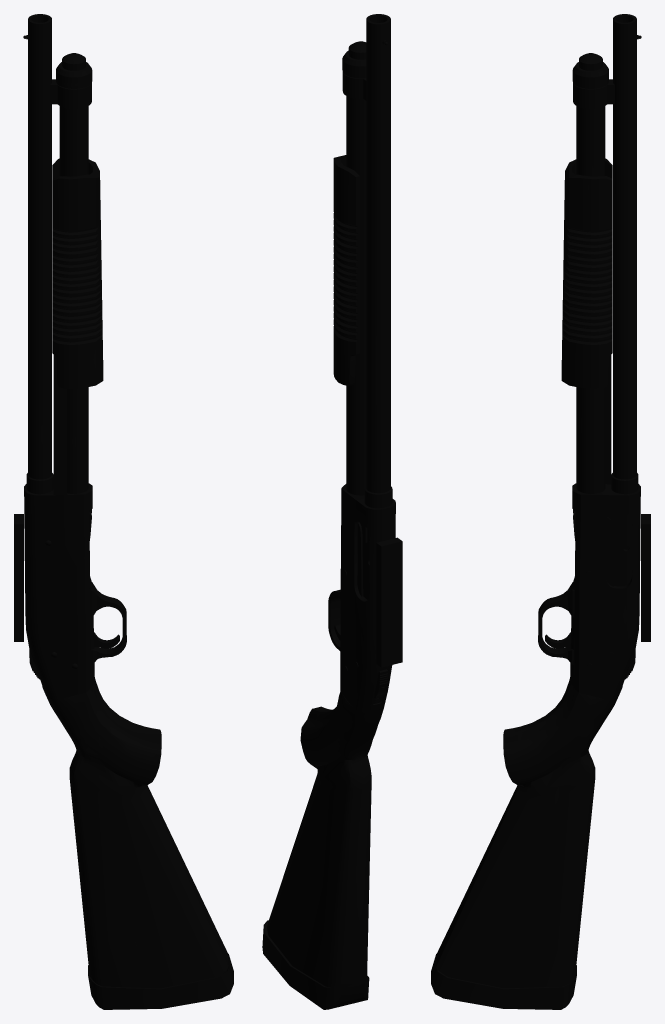
Rendered from M590__Mount_ScopeBase.fbx.
The picture shows the model from 3 angles, left to right: view 1: azimuth 90°, elevation 25°; view 2: azimuth 210°, elevation 25°; view 3: azimuth 270°, elevation 25°; orthographic projection. The views are drawn at different scales.
Parts seen in each view (by area): view 1: asset_M590.001; view 2: asset_M590.001; view 3: asset_M590.001.
Boxes of the visible parts, x1=… form: asset_M590.001: x1=14, y1=14, x2=233, y2=1009; asset_M590.001: x1=262, y1=14, x2=402, y2=1009; asset_M590.001: x1=431, y1=14, x2=650, y2=1009.
Size of the model in its own units: 0.0323 by 0.6 by 0.1218.
